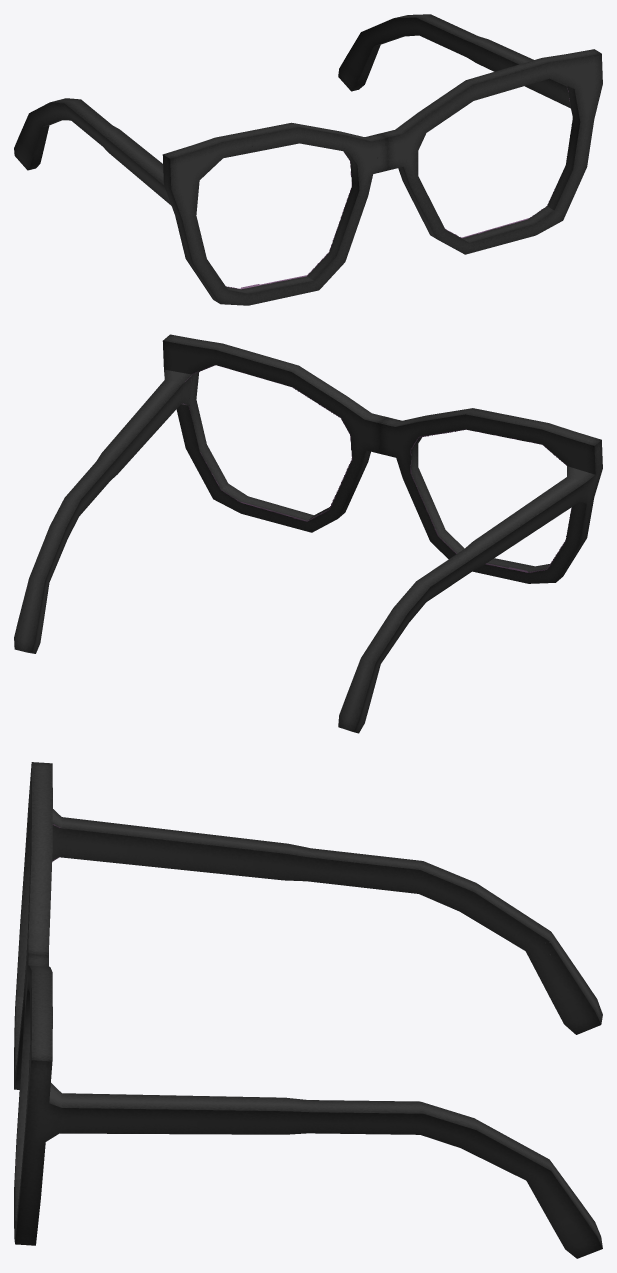
The model's file is glasses.fbx.
3 renders of one model, top to bottom at view 1: azimuth 30°, elevation 25°; view 2: azimuth 150°, elevation 25°; view 3: azimuth 270°, elevation 25°, orthographic. The views are drawn at different scales.
Parts seen in each view (by area): view 1: Plane.017; view 2: Plane.017; view 3: Plane.017.
Boxes of the visible parts, x1,y1,x2,y2 form: Plane.017: [14, 14, 602, 305]; Plane.017: [14, 334, 602, 733]; Plane.017: [14, 762, 602, 1258].
Size of the model in its own units: 49.34 by 18.45 by 41.2.
1 material, 1 textured.
